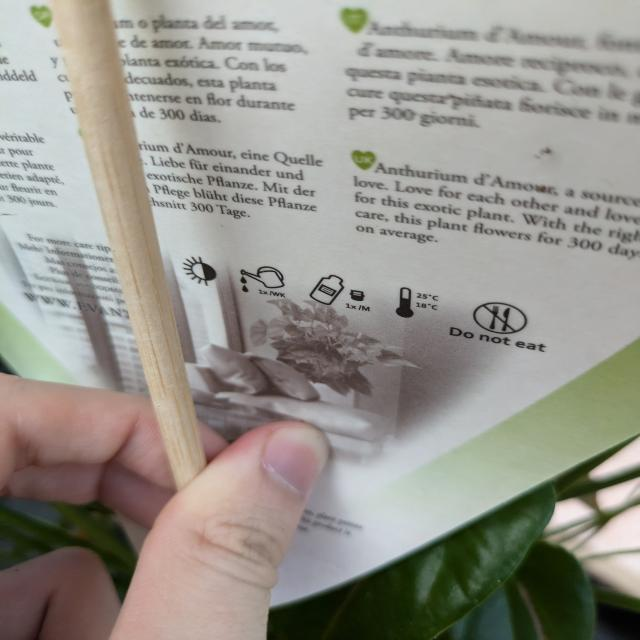dungen: (312, 267, 372, 319)
halb sonnig schattig: (182, 256, 224, 291)
mittel giesen: (236, 258, 296, 300)
